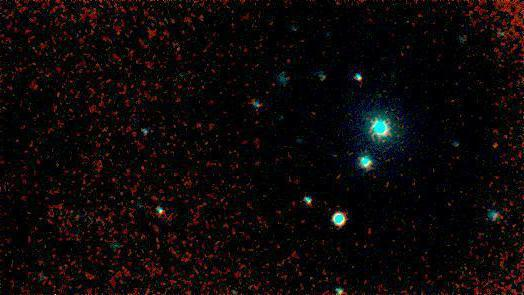star: (480, 131, 510, 161)
